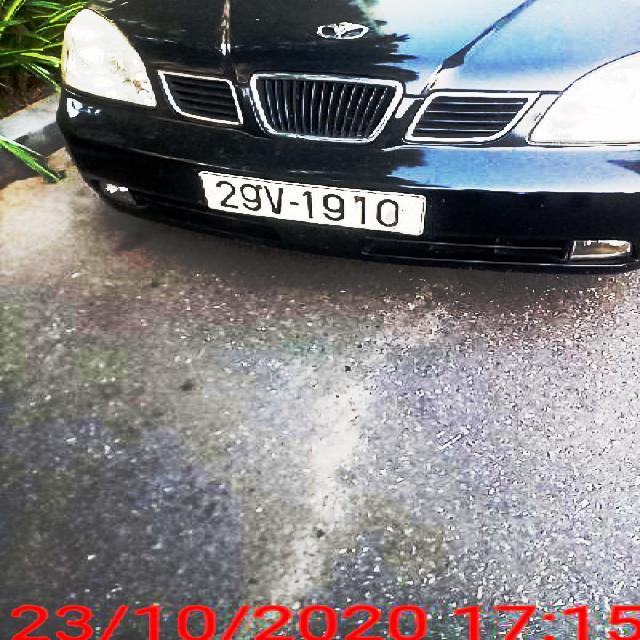license_plate: (201, 174, 426, 236)
